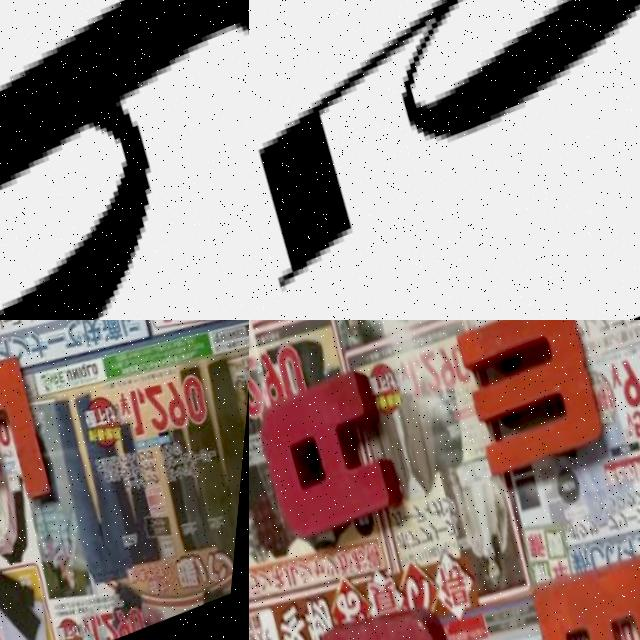5: (249, 0, 640, 299)
A: (249, 363, 416, 554)
E: (0, 353, 71, 545), (524, 556, 640, 640)
U: (312, 584, 493, 640)
W: (445, 320, 625, 487)
